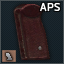APS bakelite side-pieces: (0, 0, 64, 64)
